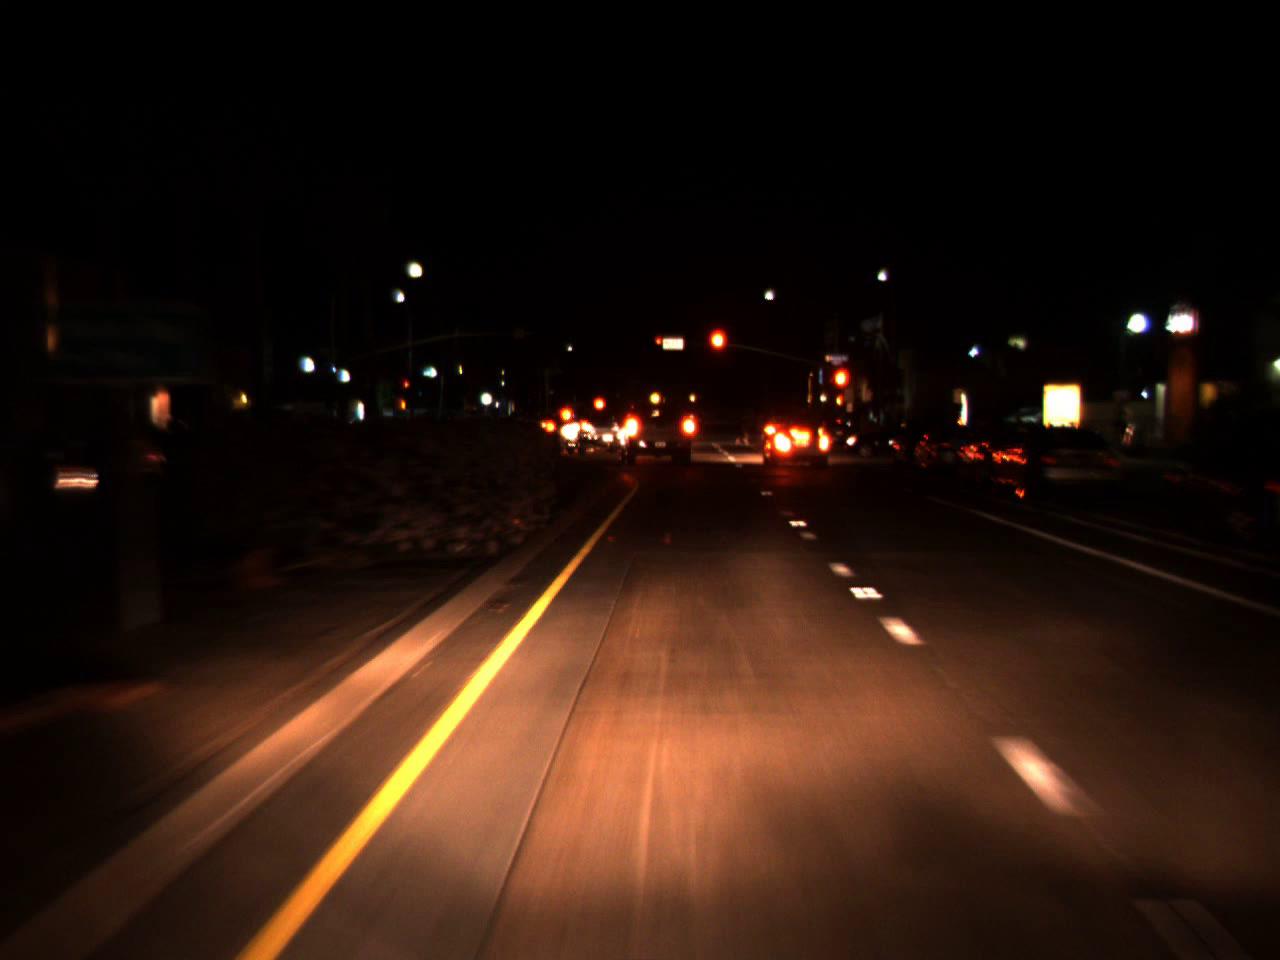stop: (706, 326, 730, 374), (831, 365, 852, 410), (403, 380, 409, 393), (655, 339, 661, 349)
